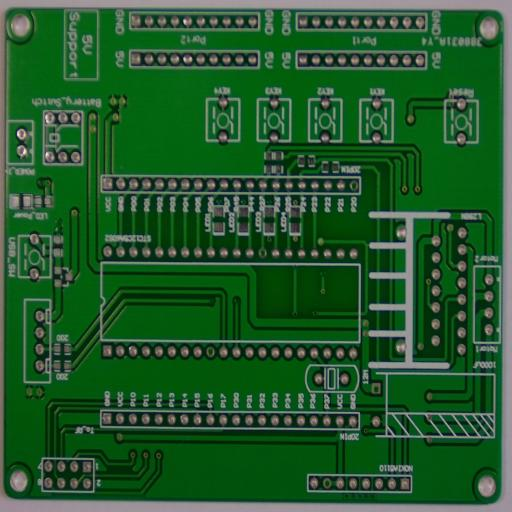missing_hole: (257, 244, 269, 260), (320, 475, 332, 491), (204, 345, 217, 359), (348, 178, 360, 192), (372, 382, 382, 396)
